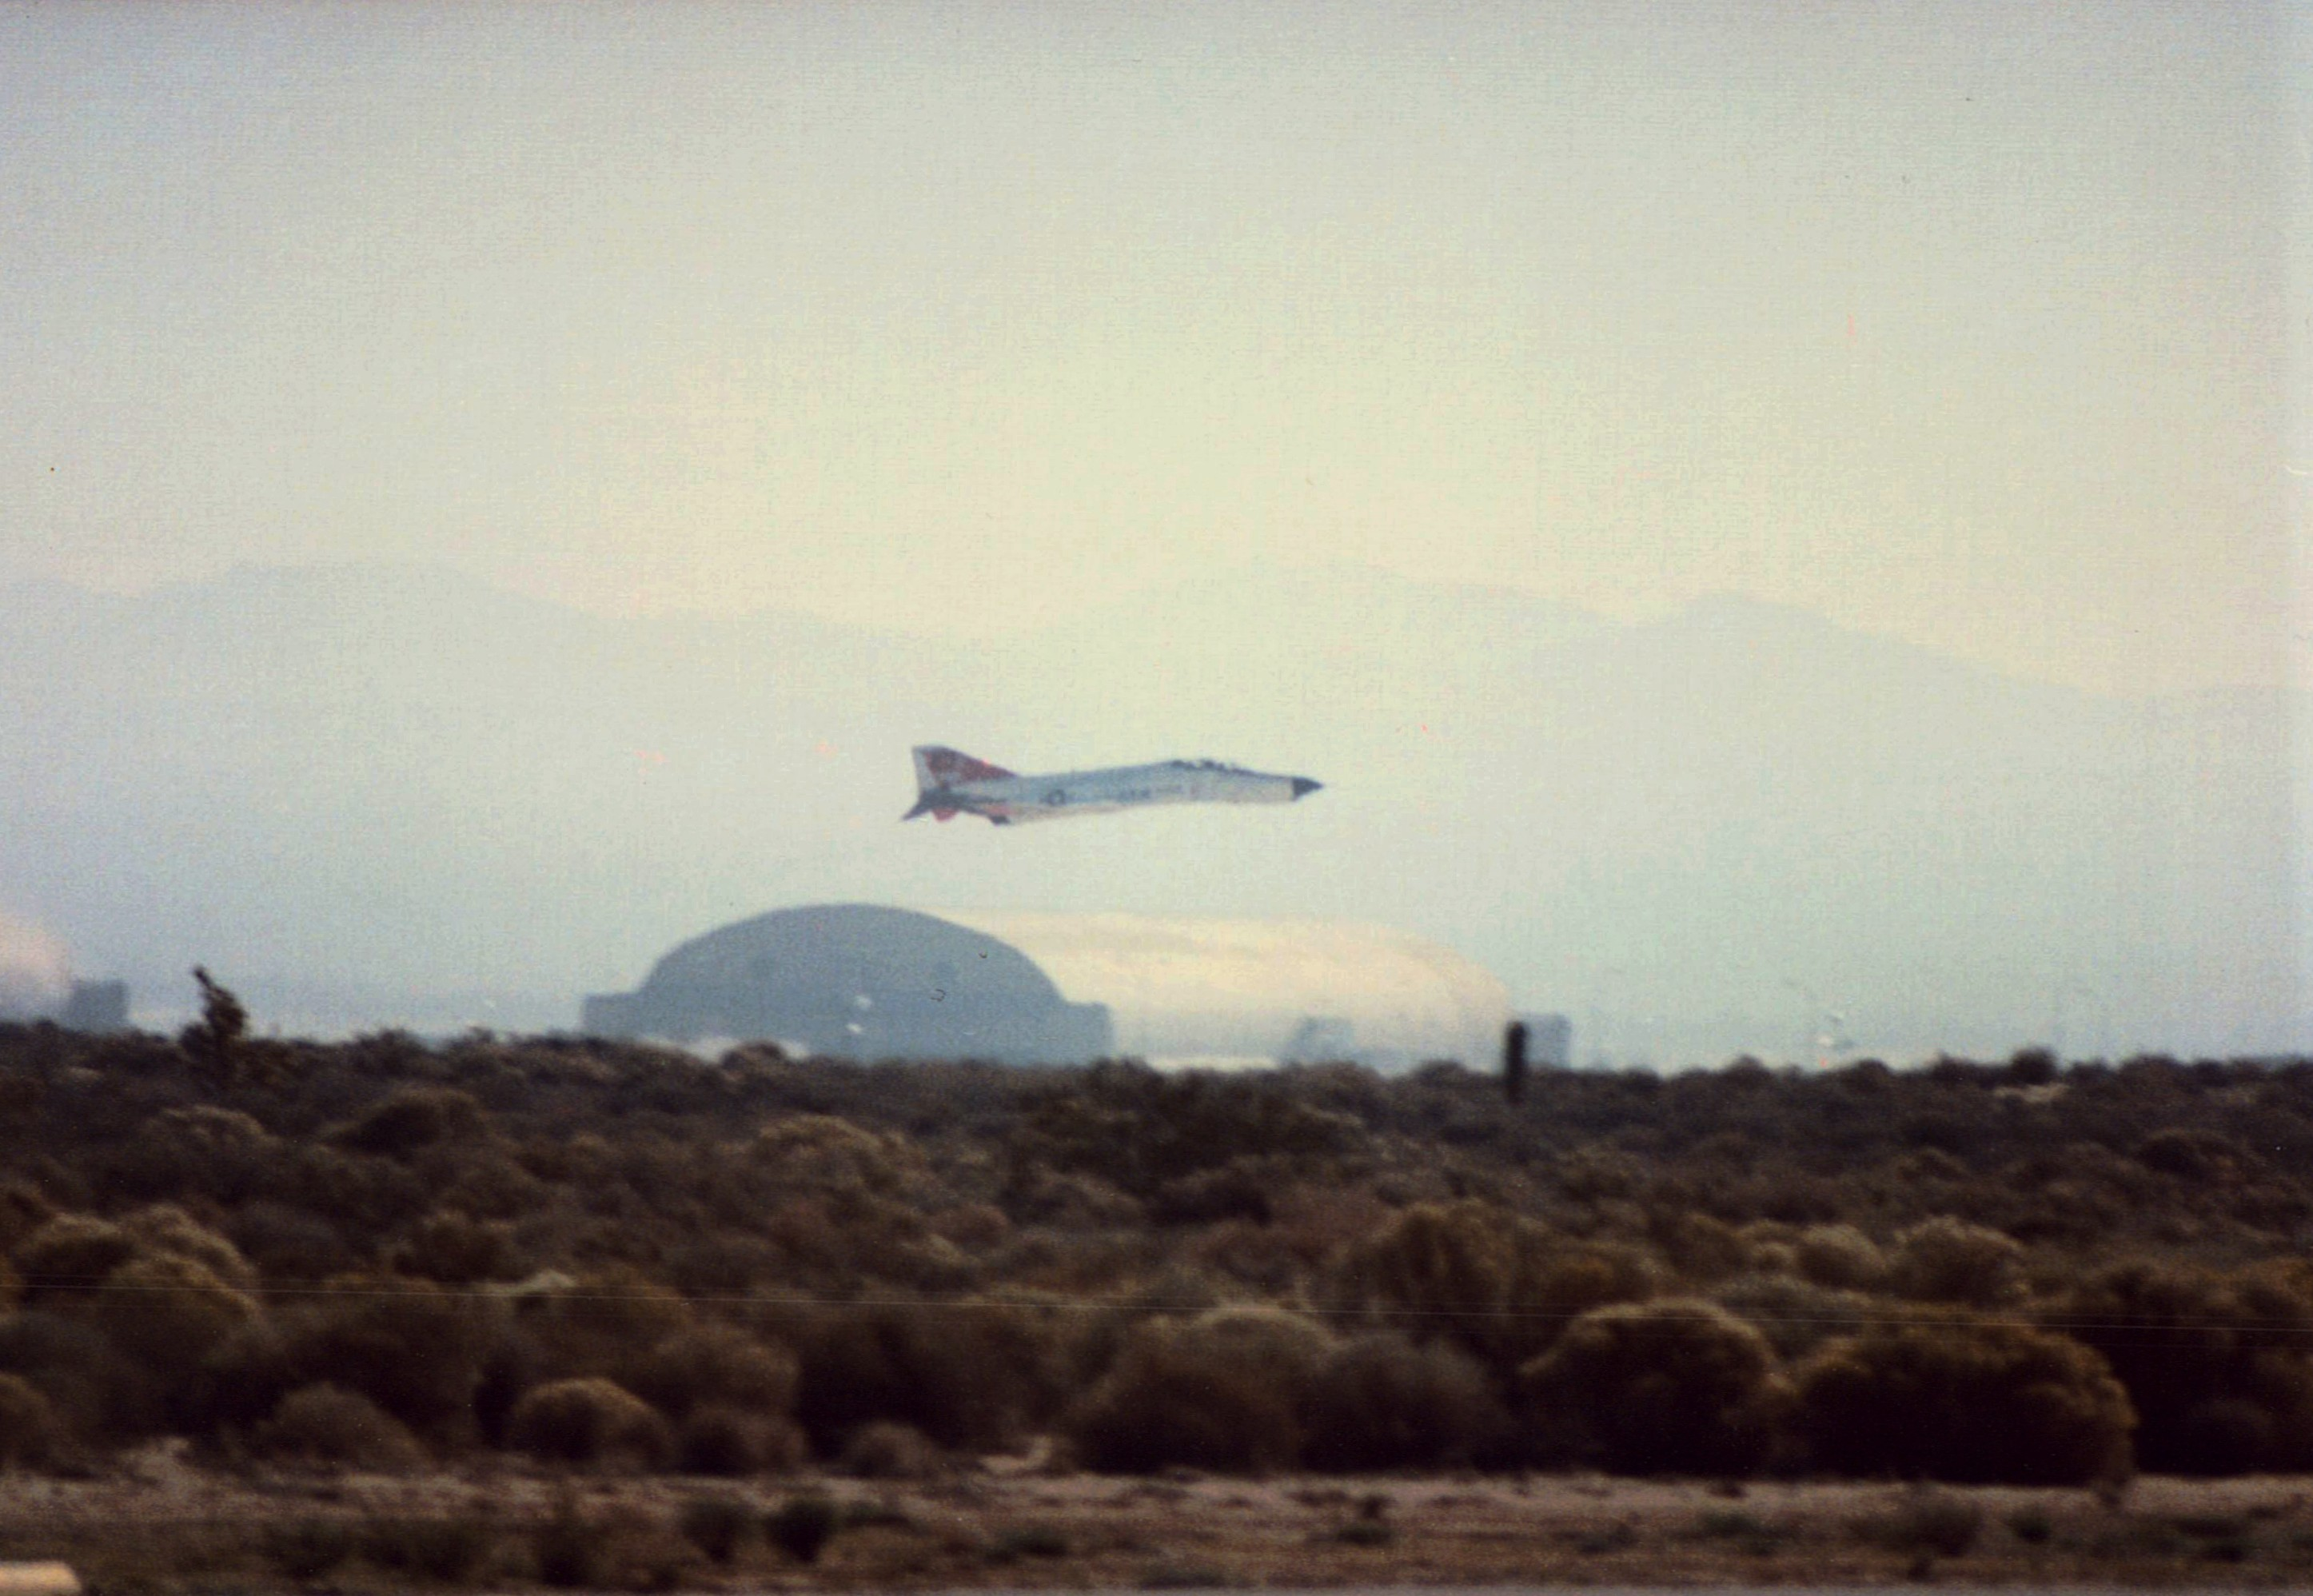F4: (889, 744, 1338, 828)
